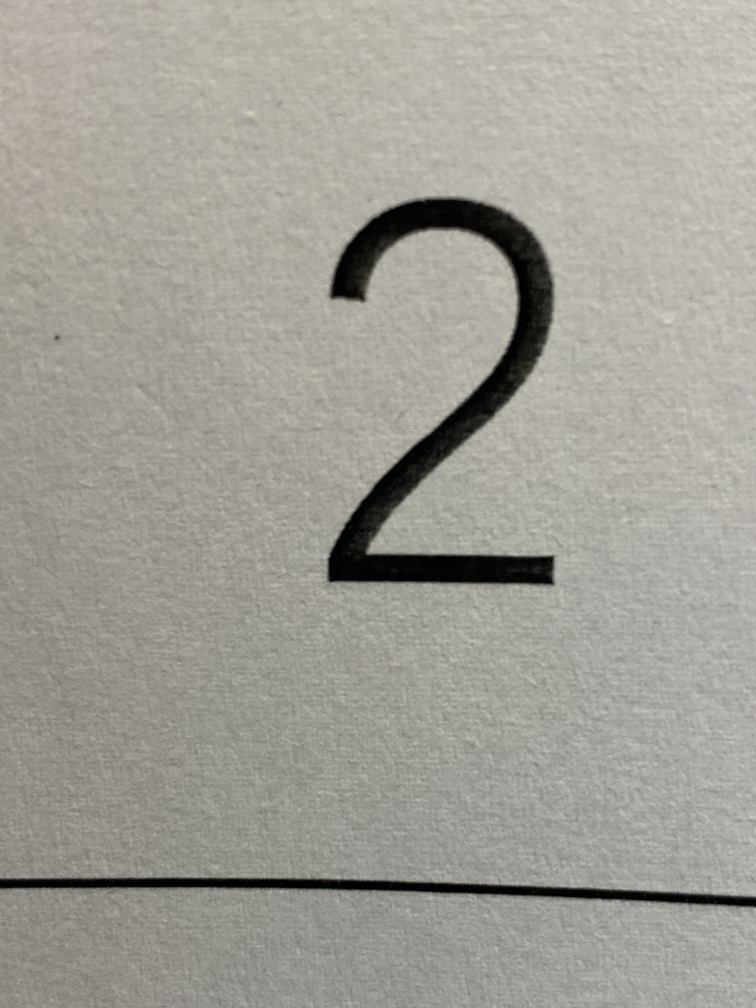two: (262, 165, 627, 639)
